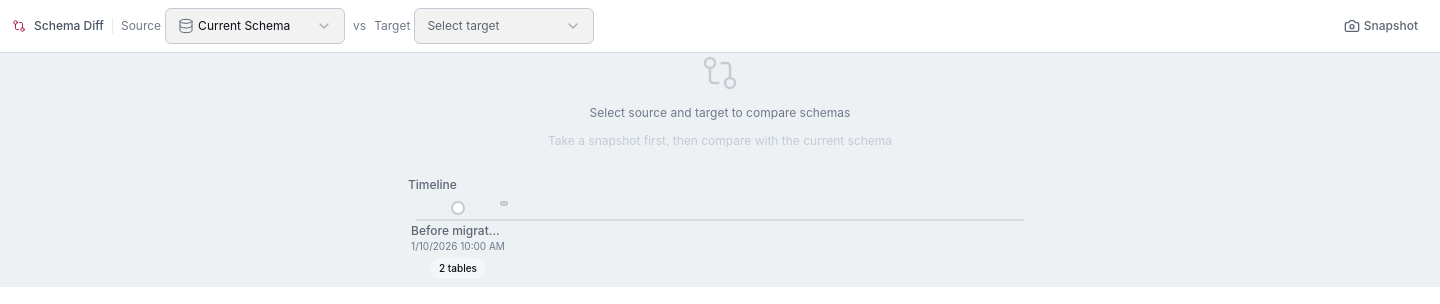
Test case: SchemaDiff › snapshot controls › clicking Snapshot shows label input
This screenshot has width=1440, height=304.
Click the button "Snapshot": {"x": 1381, "y": 26} [1334, 12, 1428, 40]
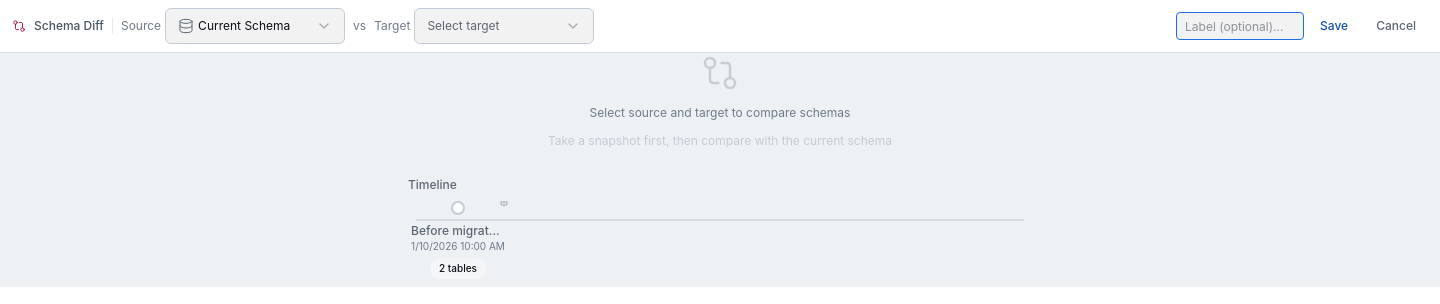
Now the field with placeholder "Label (optional)..." is shown, box [1176, 12, 1304, 40]
Now the button "Save" is shown, box [1308, 12, 1360, 40]
Now the button "Cancel" is shown, box [1364, 12, 1428, 40]
